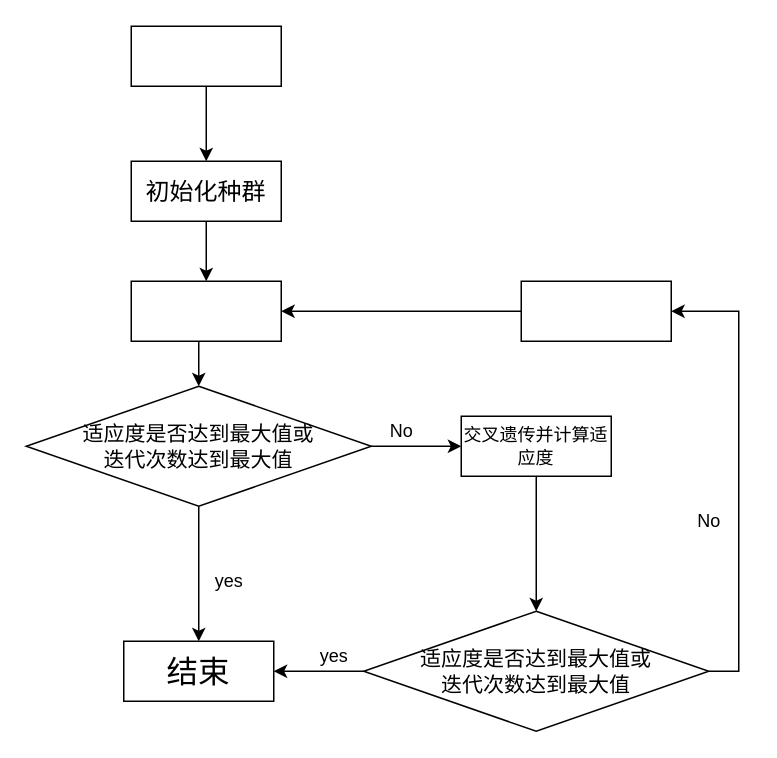
This 777x758 diagram has some shape labels left out. Each missing label, with the box of its shape:
变异: (520, 280, 671, 341)
开始: (130, 25, 281, 86)
计算个体适应度: (130, 280, 281, 341)
